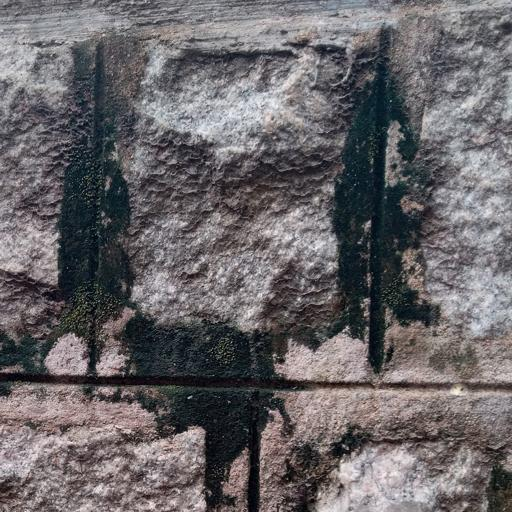algae: (47, 24, 449, 456)
